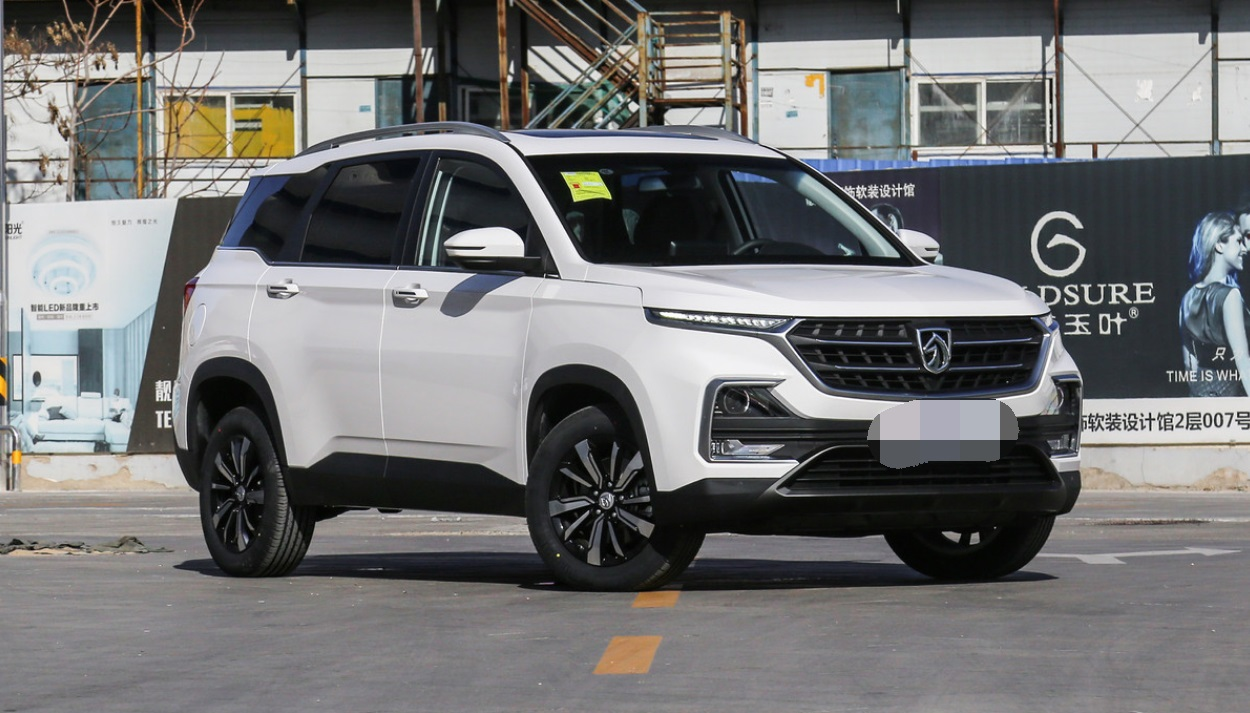SUV: (169, 119, 1096, 582)
